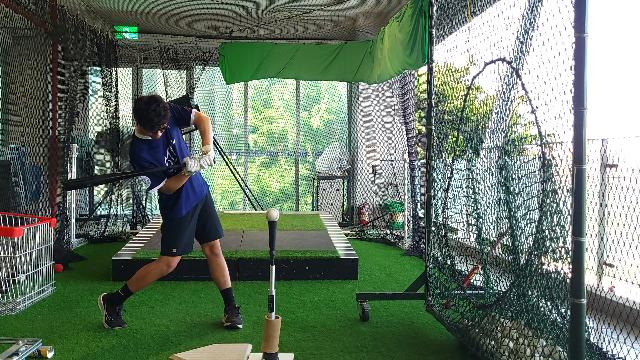bat: (63, 162, 187, 192)
